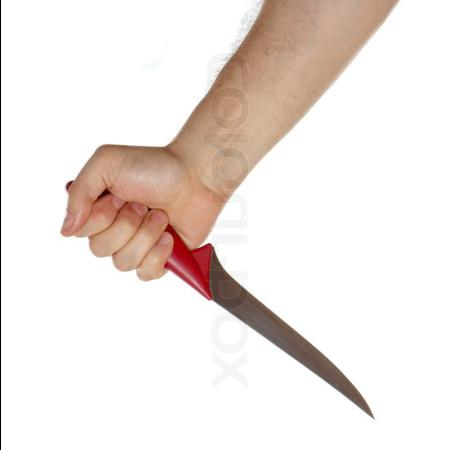long weapon: (87, 193, 378, 423)
